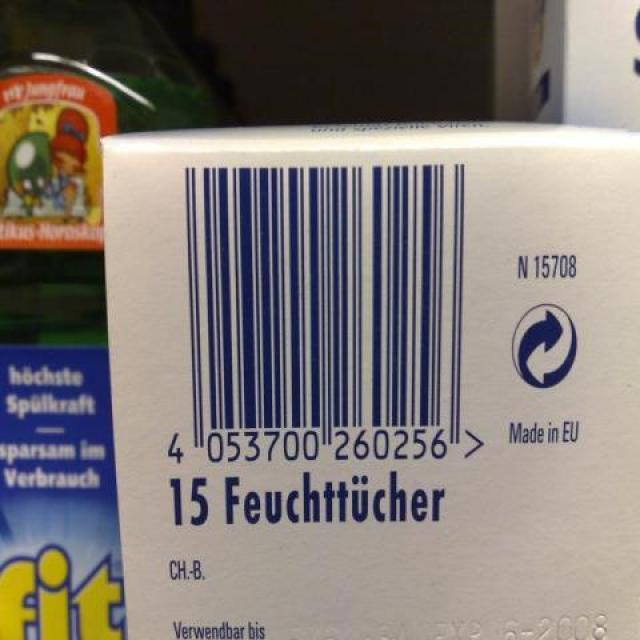Barcode: (156, 149, 495, 471)
